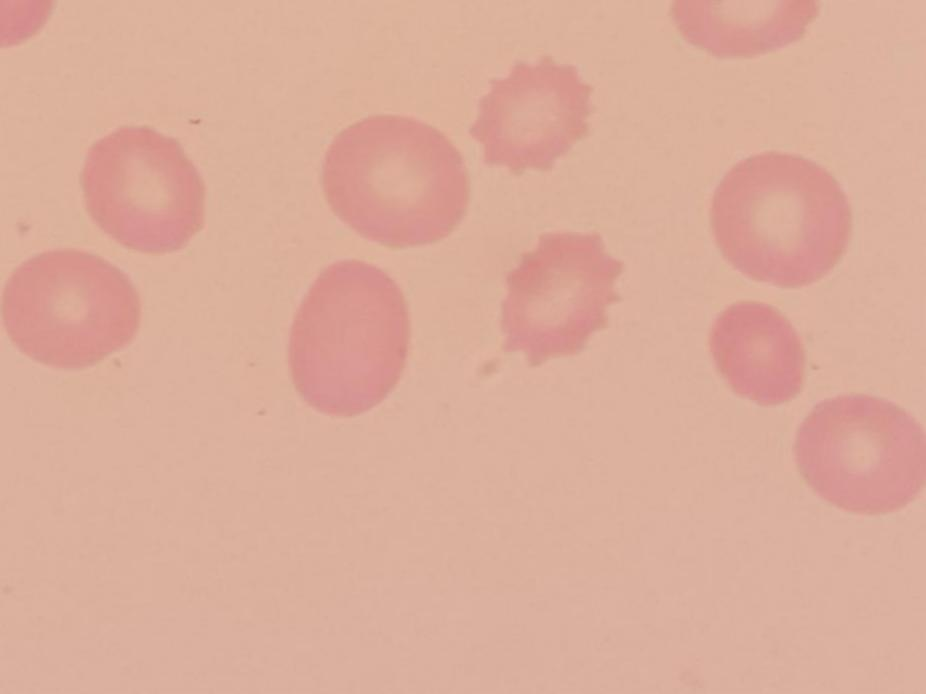Uninfected: (322, 112, 472, 248), (288, 259, 409, 420), (713, 152, 852, 291), (500, 226, 626, 367), (0, 251, 141, 374), (77, 126, 209, 256), (793, 392, 926, 518), (473, 52, 596, 178), (710, 296, 800, 404)
